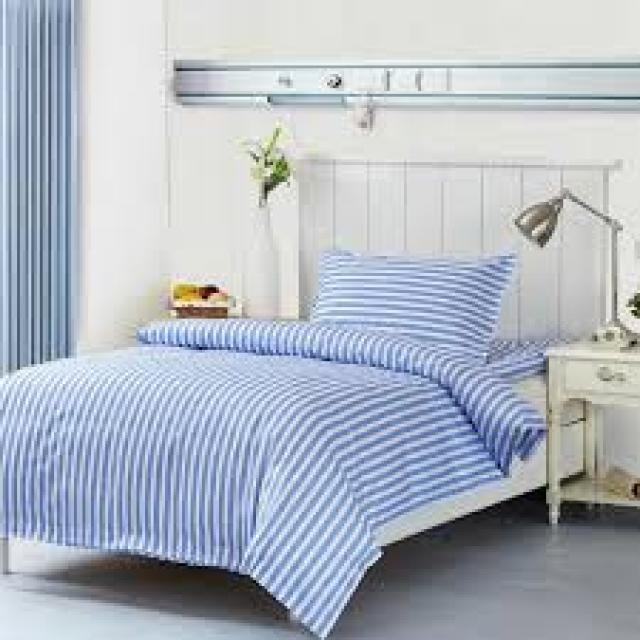bed: (0, 228, 612, 638)
